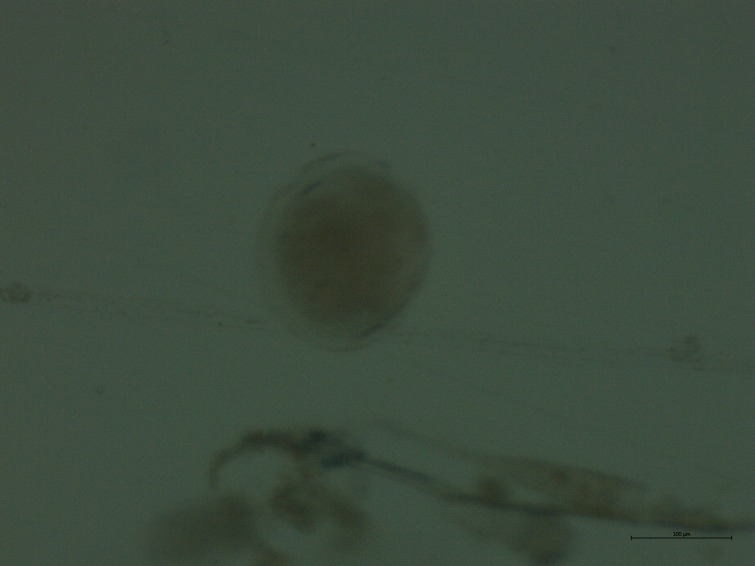oyster: (238, 137, 455, 376)
